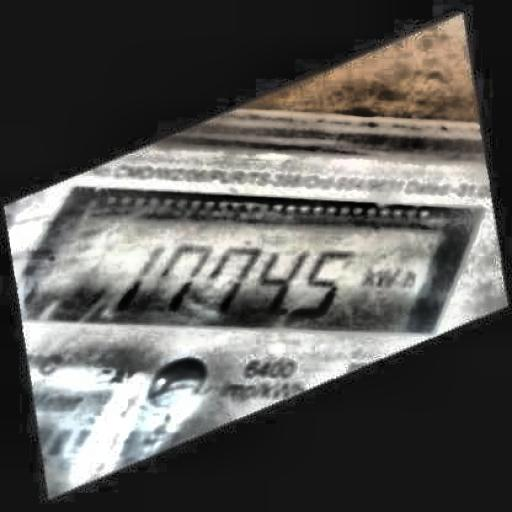DISPLAY_REGION: (11, 182, 489, 337)
SERIAL_REGION: (113, 240, 424, 322)
